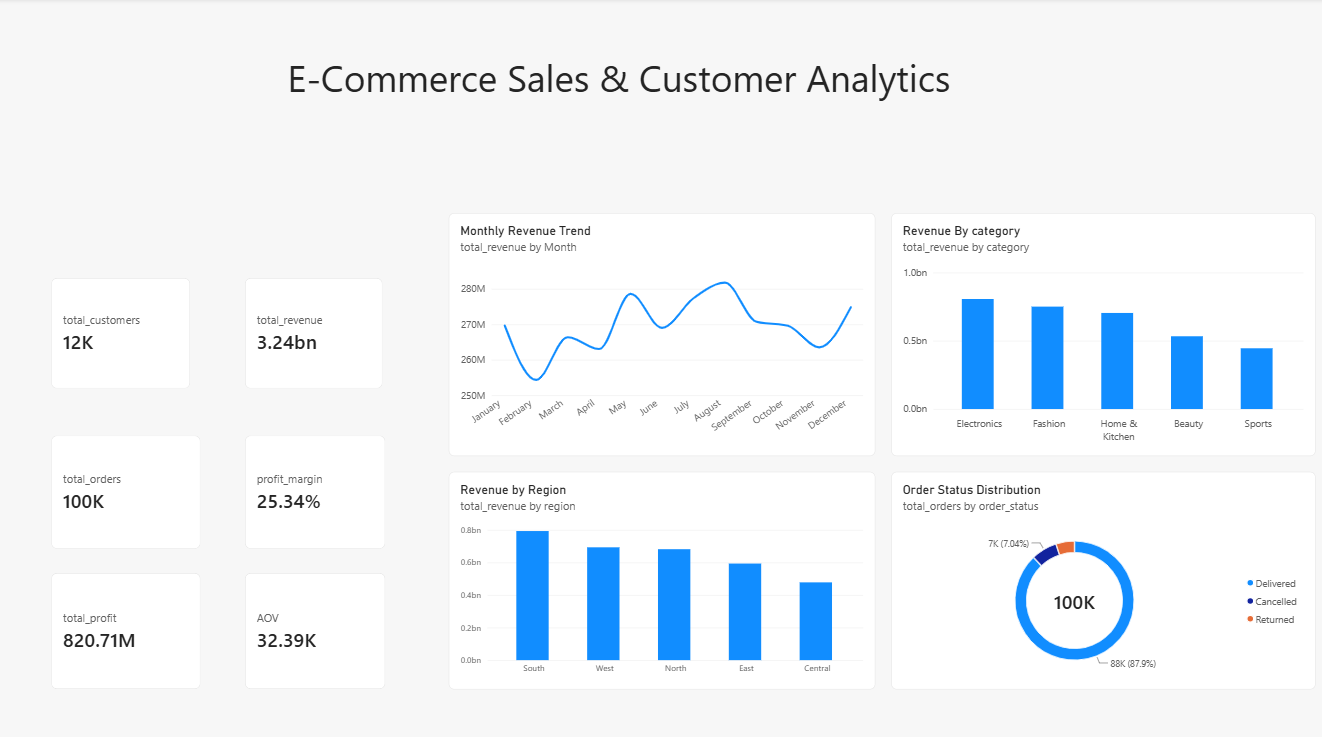

Layout of this report page (visuals, bound fields, positions):
{"tool":"powerbi","page":{"name":"Executive Overview","canvas":[1920,1080],"ordinal":0},"visuals":[{"type":"cardVisual","fields":{"Data":["orders.total_customers"]},"box":[74.1,405.5,201.7,160.5],"z":0},{"type":"cardVisual","fields":{"Data":["orders.total_orders"]},"box":[74.1,634,216.1,164.7],"z":1000},{"type":"cardVisual","fields":{"Data":["orders.total_profit"]},"box":[74.1,831.6,216.1,168.8],"z":2000},{"type":"cardVisual","fields":{"Data":["orders.total_revenue"]},"box":[354,405.5,199.7,160.5],"z":3000},{"type":"cardVisual","fields":{"Data":["orders.profit_margin"]},"box":[354,634,203.8,164.7],"z":4000},{"type":"cardVisual","fields":{"Data":["orders.AOV"]},"box":[354,831.6,203.8,168.8],"z":5000},{"type":"lineChart","title":"Monthly Revenue Trend","fields":{"Y":["orders.total_revenue"],"Category":["orders.order_date.Variation.Date Hierarchy.Month"]},"box":[650.4,310.8,617.5,352],"z":6000},{"type":"clusteredColumnChart","title":"Revenue By category","fields":{"Category":["orders.category"],"Y":["orders.total_revenue"]},"box":[1290.6,310.8,614,352],"z":7000},{"type":"clusteredColumnChart","title":"Revenue by Region","fields":{"Y":["orders.total_revenue"],"Category":["orders.region"]},"box":[650.4,685.4,617.5,314.9],"z":8000},{"type":"donutChart","title":"Order Status Distribution","fields":{"Category":["orders.order_status"],"Y":["orders.total_orders"]},"box":[1290.6,685.4,614,315],"z":9000},{"type":"textbox","box":[416.3,78.3,1006.2,112.2],"z":10000}]}

Visuals, with their boxes in screenshot pixels (x1, y1, x2, y2), scaled from the page's 1920x1080 canvas onto the 1322x737 screenshot:
cardVisual - orders.total_customers: rect(51, 277, 190, 386)
cardVisual - orders.total_orders: rect(51, 433, 200, 545)
cardVisual - orders.total_profit: rect(51, 567, 200, 683)
cardVisual - orders.total_revenue: rect(244, 277, 381, 386)
cardVisual - orders.profit_margin: rect(244, 433, 384, 545)
cardVisual - orders.AOV: rect(244, 567, 384, 683)
"Monthly Revenue Trend" lineChart: rect(448, 212, 873, 452)
"Revenue By category" clusteredColumnChart: rect(889, 212, 1311, 452)
"Revenue by Region" clusteredColumnChart: rect(448, 468, 873, 683)
"Order Status Distribution" donutChart: rect(889, 468, 1311, 683)
textbox: rect(287, 53, 979, 130)
